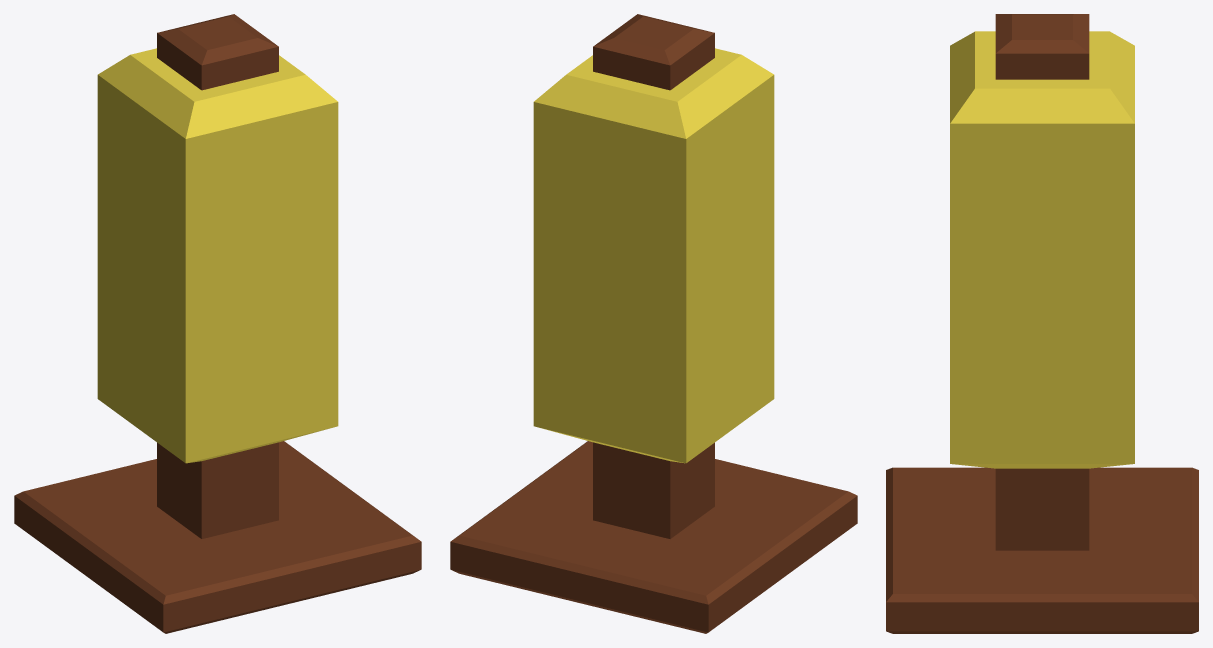
The model's file is lamp.gltf.
3 views of the same model, side by side, from view 1: azimuth 30°, elevation 25°; view 2: azimuth 150°, elevation 25°; view 3: azimuth 270°, elevation 25° (orthographic). The views are drawn at different scales.
Visible parts, largest first — view 1: Cube, Cube.001; view 2: Cube, Cube.001; view 3: Cube, Cube.001.
Part boxes in pixels (x1,y1,x2,y2): Cube: (97,48,338,463); Cube.001: (14,14,421,633); Cube: (533,48,774,463); Cube.001: (450,14,857,633); Cube: (950,31,1134,468); Cube.001: (886,14,1198,633).
Bounding box in the file's own units: 2.09 × 4.01 × 2.09.
